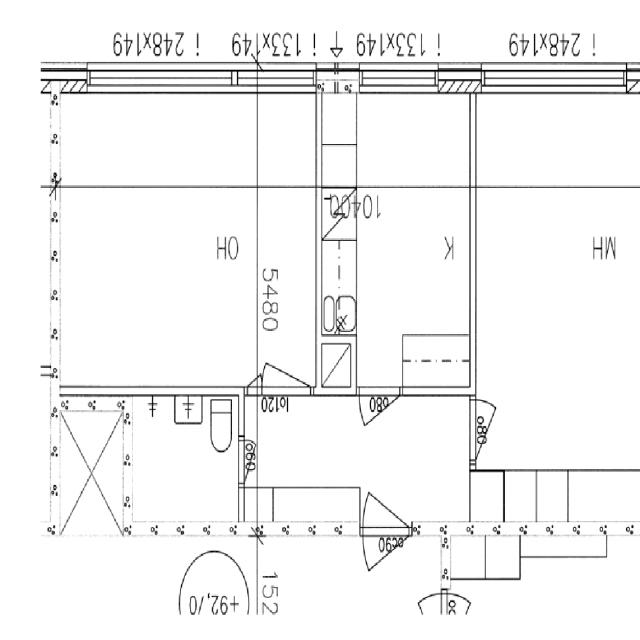door: (262, 313, 310, 396), (363, 520, 409, 604), (363, 452, 409, 536), (470, 399, 516, 460), (359, 386, 399, 456), (238, 439, 274, 484), (246, 364, 262, 396)
